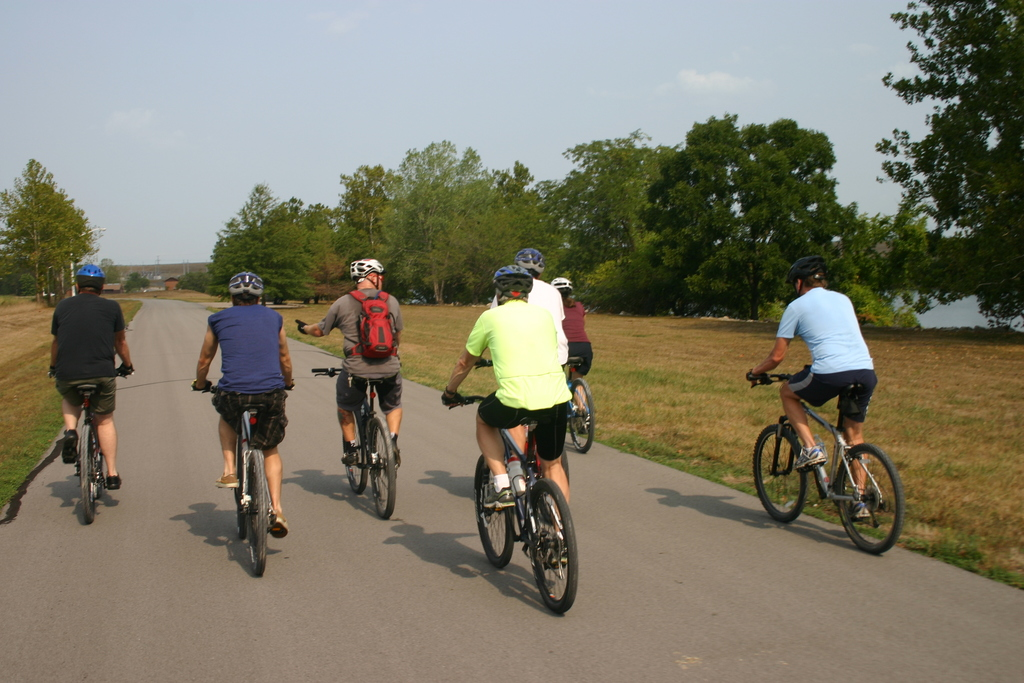Bike: (442, 391, 592, 613), (748, 369, 906, 555), (189, 377, 304, 576), (310, 364, 408, 523), (43, 364, 137, 524)
